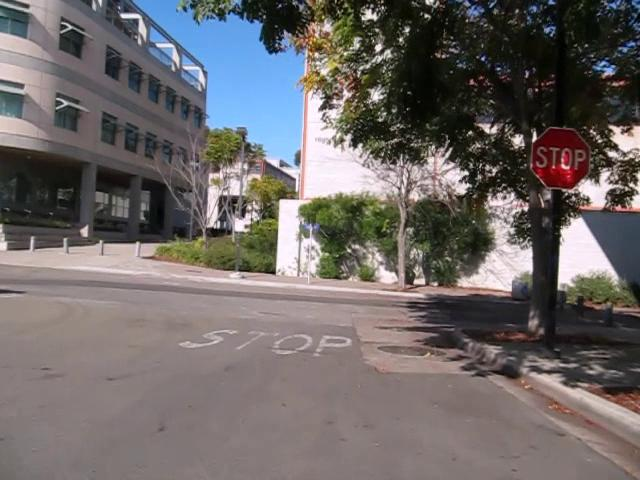stop: (529, 126, 591, 190)
